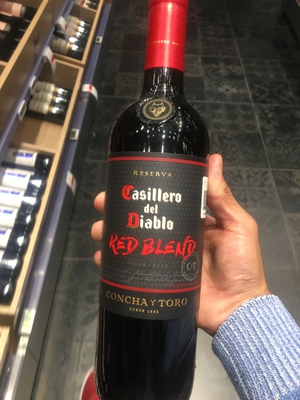casillero del diablo red blend: (90, 10, 224, 400)
